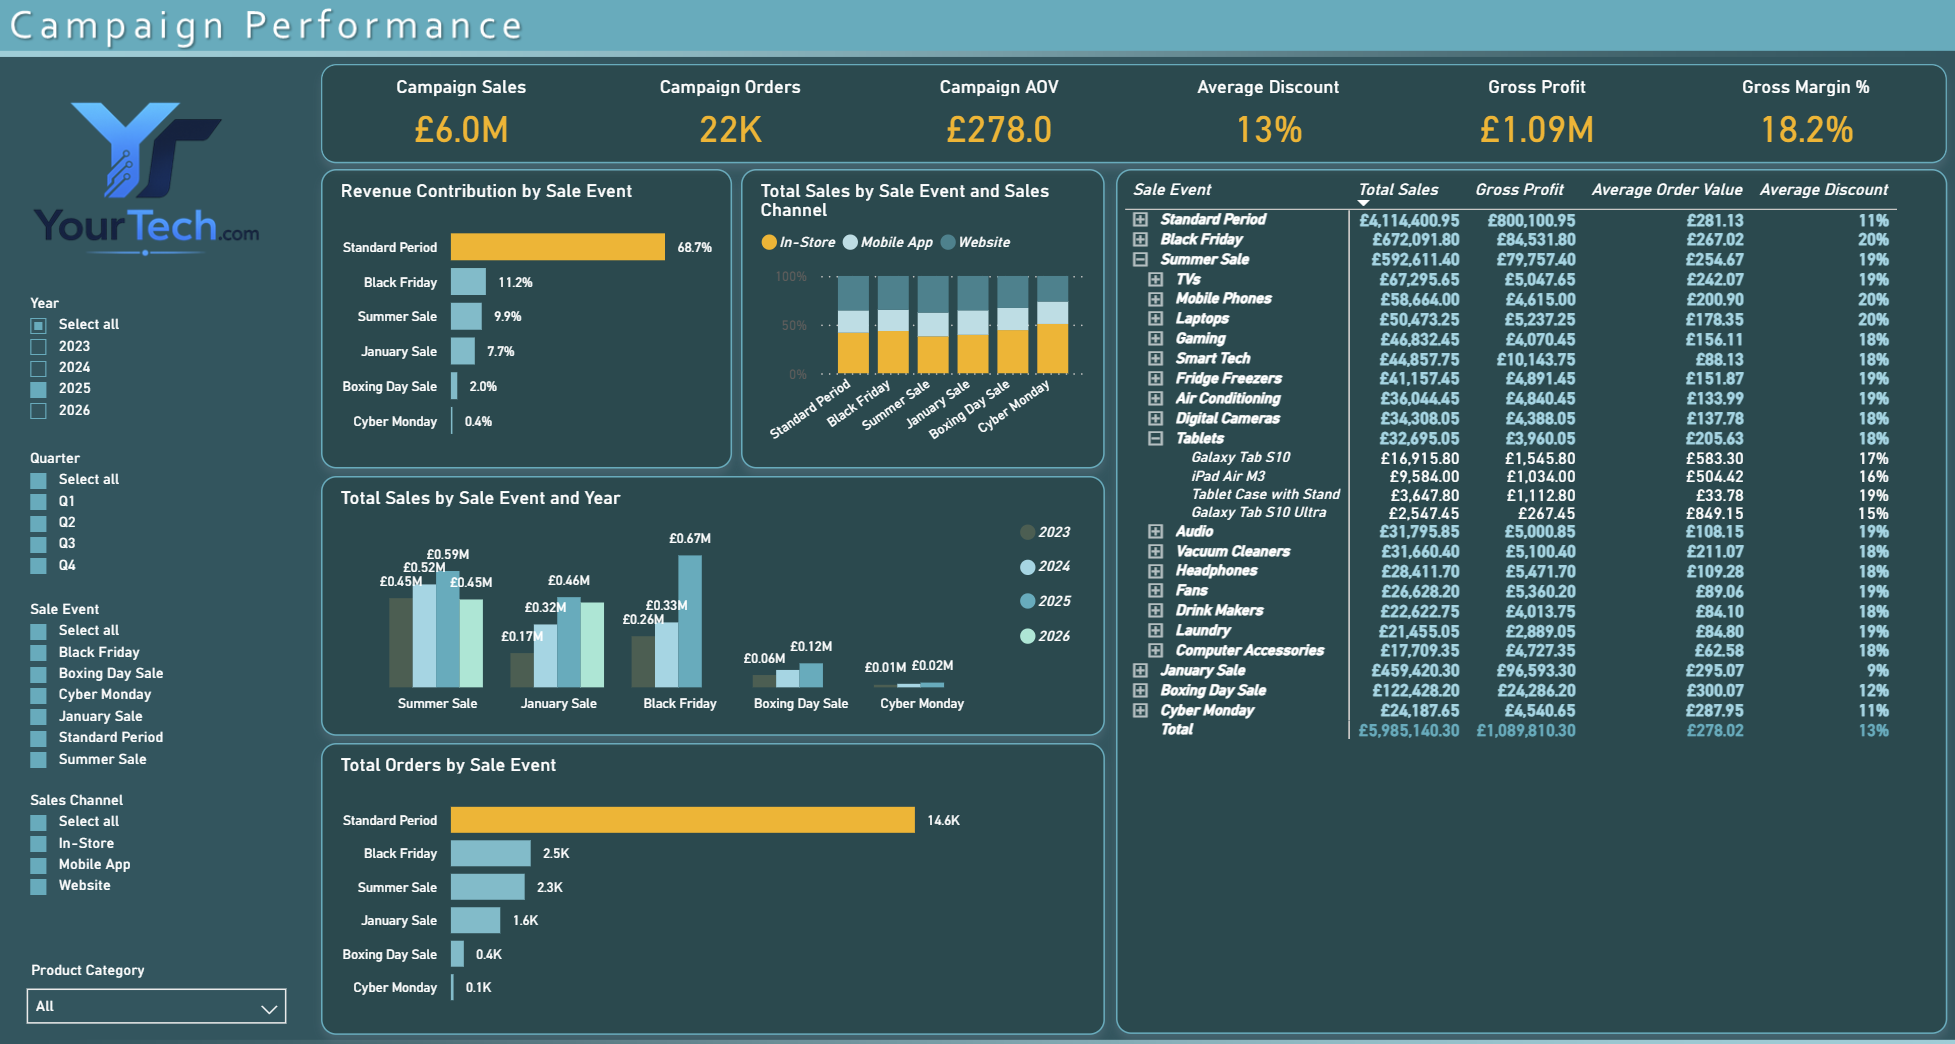

The dashboard page shown, as its layout file describes it:
{"tool":"powerbi","page":{"name":"Campaign Performance","canvas":[1280,720],"ordinal":2},"visuals":[{"type":"barChart","title":"Revenue Contribution by Sale Event","fields":{"Category":["dSale Event.Sale_Event_Name"],"Y":["_Measures.Campaign Sales %"]},"box":[221.2,110.6,258.5,196.3],"z":0},{"type":"barChart","title":"Total Orders by Sale Event","fields":{"Category":["dSale Event.Sale_Event_Name"],"Y":["_Measures.Total Orders"]},"box":[221.2,486.2,502.6,190.4],"z":1000},{"type":"lineChart","fields":{"Category":["dDate.Month"],"Series":["dSale Event.Sale_Event_Name"],"Y":["_Measures.Total Sales"]},"box":[221.2,311.5,502.6,169.5],"z":2000},{"type":"hundredPercentStackedColumnChart","fields":{"Category":["dSale Event.Sale_Event_Name"],"Series":["fSales.Sales Channel"],"Y":["_Measures.Total Sales"]},"box":[485.6,110.6,238.2,196.3],"z":3000},{"type":"pivotTable","fields":{"Rows":["dSale Event.Sale_Event_Name","dProducts.Product Category","dProducts.Product Name"],"Values":["_Measures.Total Sales","_Measures.Gross Profit","_Measures.Average Order Value","_Measures.Average Discount"]},"box":[731,105.4,544.5,566.1],"z":4000},{"type":"cardVisual","fields":{"Data":["_Measures.Campaign Sales","_Measures.Campaign Orders","_Measures.Campaign AOV","_Measures.Average Discount","_Measures.Gross Profit","_Measures.Gross Margin %"]},"box":[221.2,41.9,1054.2,64.8],"z":5000},{"type":"slicer","fields":{"Values":["dDate.Year"]},"box":[13,192.5,179.6,91.6],"z":6000},{"type":"slicer","fields":{"Values":["dDate.Quarter"]},"box":[13,294,179.6,88.7],"z":7000},{"type":"slicer","fields":{"Values":["dSale Event.Sale_Event_Name"]},"box":[13,392.5,179.6,115.4],"z":8000},{"type":"slicer","fields":{"Values":["dProducts.Product Category"]},"box":[13,628.8,180.3,42.5],"z":9000},{"type":"slicer","fields":{"Values":["fSales.Sales Channel"]},"box":[12.4,517.6,180,84.4],"z":10000},{"type":"actionButton","box":[0,685,100.2,34.5],"z":11000}]}

Visuals, with their boxes on the page's 1280x720 design canvas (x1, y1, x2, y2). These are canvas units, not pixel positions in the 1955x1044 screenshot, which may show the page scaled, cropped or inside an application window:
"Revenue Contribution by Sale Event" barChart: bbox=[221, 111, 480, 307]
"Total Orders by Sale Event" barChart: bbox=[221, 486, 724, 677]
lineChart - dDate.Month x dSale Event.Sale_Event_Name: bbox=[221, 312, 724, 481]
hundredPercentStackedColumnChart - dSale Event.Sale_Event_Name x fSales.Sales Channel: bbox=[486, 111, 724, 307]
pivotTable - dSale Event.Sale_Event_Name x dProducts.Product Category: bbox=[731, 105, 1276, 672]
cardVisual - _Measures.Campaign Sales x _Measures.Campaign Orders: bbox=[221, 42, 1275, 107]
slicer - dDate.Year: bbox=[13, 192, 193, 284]
slicer - dDate.Quarter: bbox=[13, 294, 193, 383]
slicer - dSale Event.Sale_Event_Name: bbox=[13, 392, 193, 508]
slicer - dProducts.Product Category: bbox=[13, 629, 193, 671]
slicer - fSales.Sales Channel: bbox=[12, 518, 192, 602]
actionButton: bbox=[0, 685, 100, 720]
